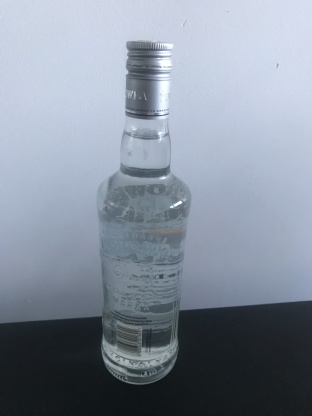nakretka: (123, 37, 175, 121)
